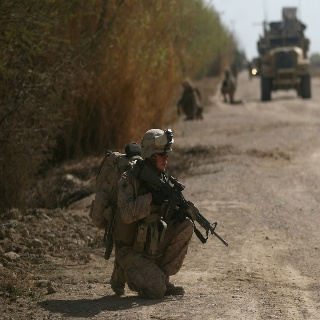rifle: (136, 157, 228, 249)
